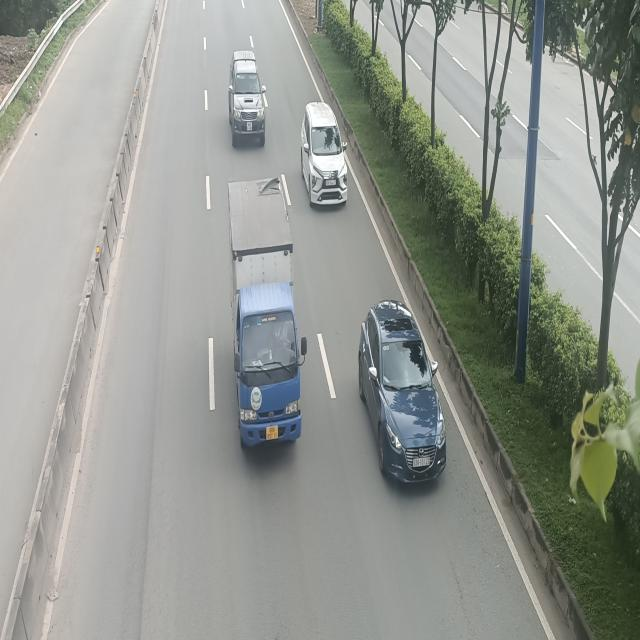car: (359, 301, 446, 484), (302, 102, 349, 206), (228, 48, 268, 146)
truck: (226, 174, 308, 456)
